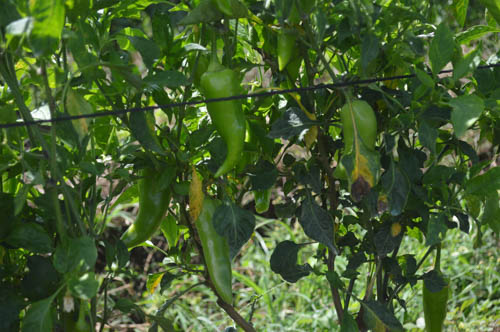ChiliPepper: (198, 70, 243, 184), (126, 157, 175, 253), (199, 197, 232, 311), (339, 99, 375, 198), (417, 275, 451, 332), (274, 29, 295, 74)
